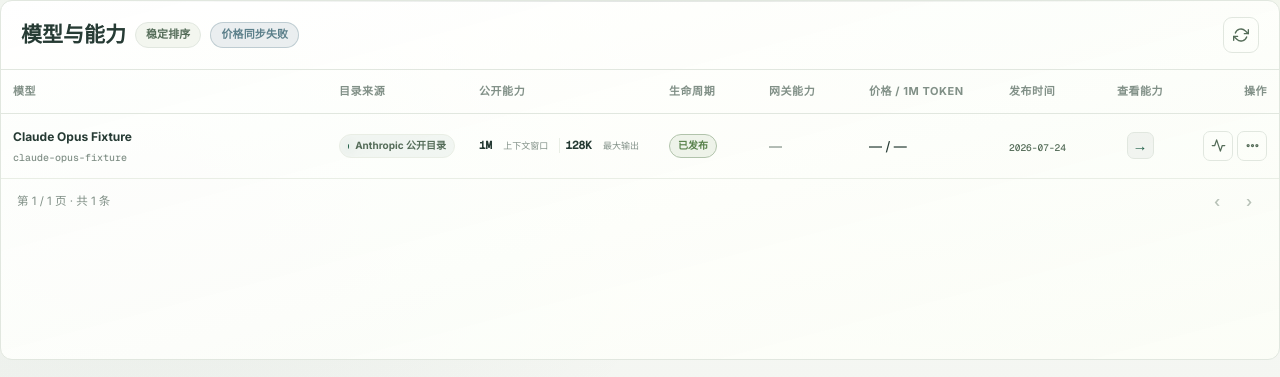
Test case: labels price status explicitly, removes its separate button, and refreshes the status
Expected: the text "价格同步失败" is shown, 210,22 -> 299,48
Click the button named "刷新".
click(1241, 35)  # box 1223,17 -> 1259,53
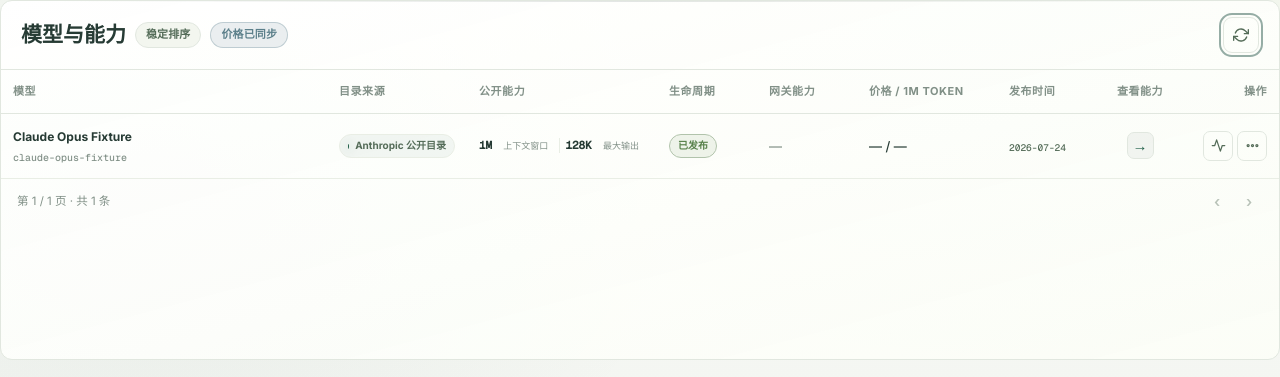
Expected: the column heading "查看能力" is shown, 1097,70 -> 1183,114
Result: the text "价格已同步" is shown at 210,22 -> 288,48
